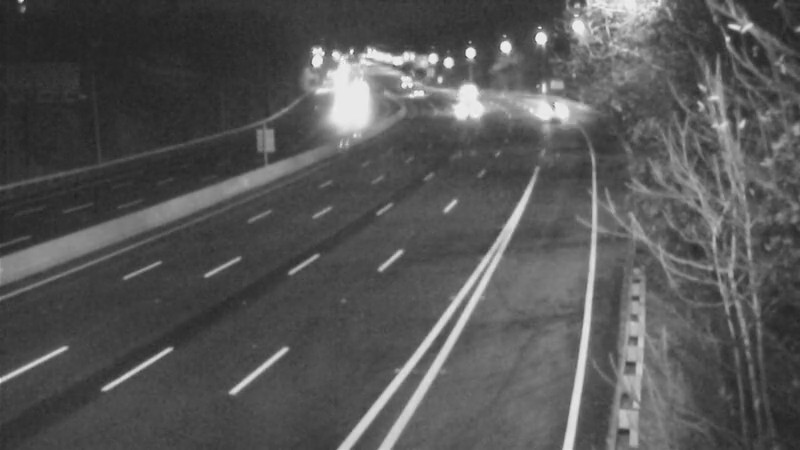vehicle: (379, 56, 429, 106), (442, 61, 492, 111), (441, 68, 491, 118), (524, 89, 574, 139), (432, 82, 482, 132), (317, 90, 367, 140)
